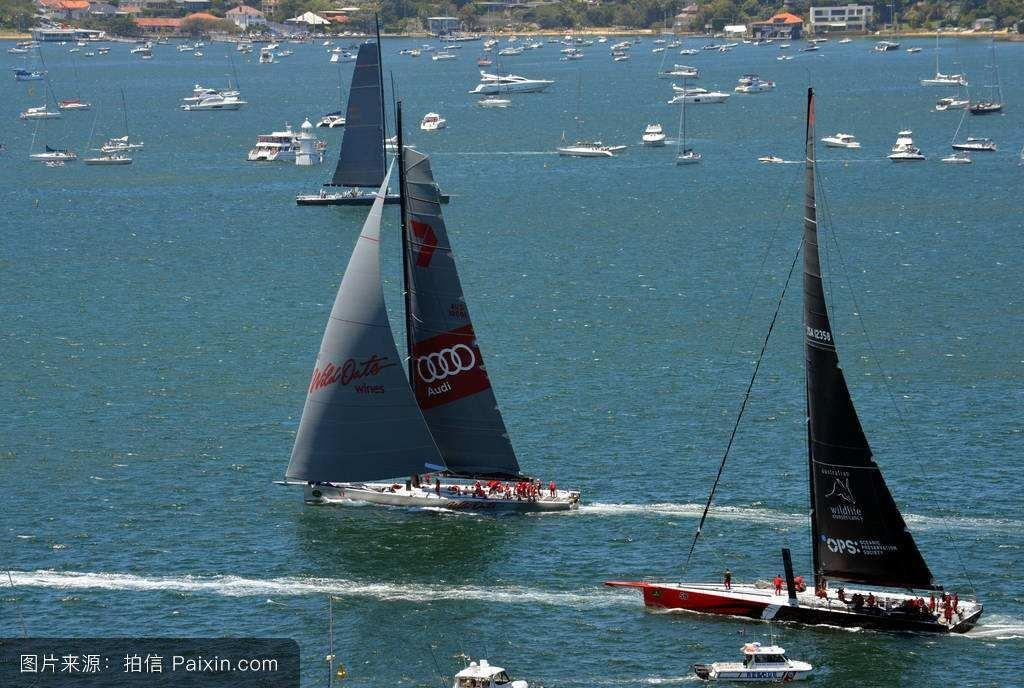fanchuan: (597, 75, 988, 636), (284, 94, 583, 515)
otherboat: (684, 633, 824, 681), (289, 178, 452, 208), (249, 115, 332, 170), (413, 655, 543, 688), (559, 134, 628, 163), (892, 127, 931, 168), (82, 143, 133, 170), (25, 144, 80, 169), (17, 100, 61, 123), (418, 108, 454, 132)
yacht: (470, 62, 568, 100), (670, 76, 738, 114), (182, 78, 248, 116), (819, 126, 862, 151)
